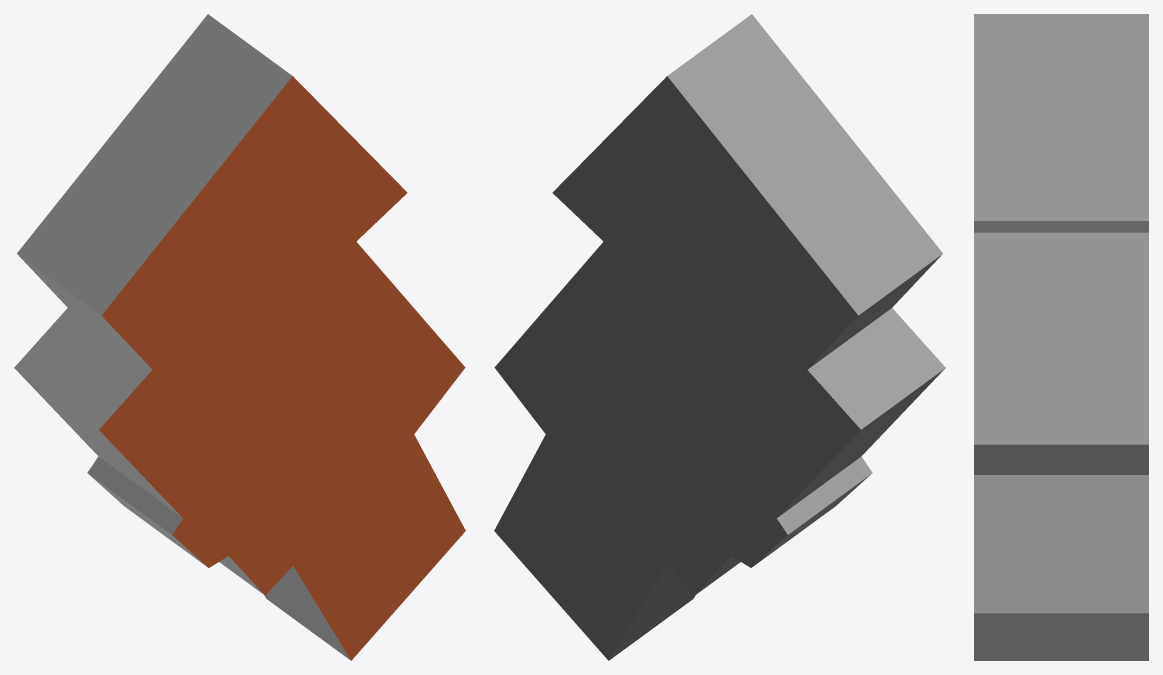
Rendered from construction_6574_assumed_A_Casa_h6m.obj.
The picture shows the model from 3 angles, left to right: view 1: azimuth 30°, elevation 25°; view 2: azimuth 150°, elevation 25°; view 3: azimuth 270°, elevation 25°; orthographic projection. The views are drawn at different scales.
Visible parts, largest first — view 1: construction_6574_assumed_A_Casa; view 2: construction_6574_assumed_A_Casa; view 3: construction_6574_assumed_A_Casa.
Part boxes in pixels (x1,y1,x2,y2): construction_6574_assumed_A_Casa: (14,14,465,660); construction_6574_assumed_A_Casa: (494,14,945,660); construction_6574_assumed_A_Casa: (974,14,1148,660).
Bounding box in the file's own units: 15 × 23.4 × 6.
